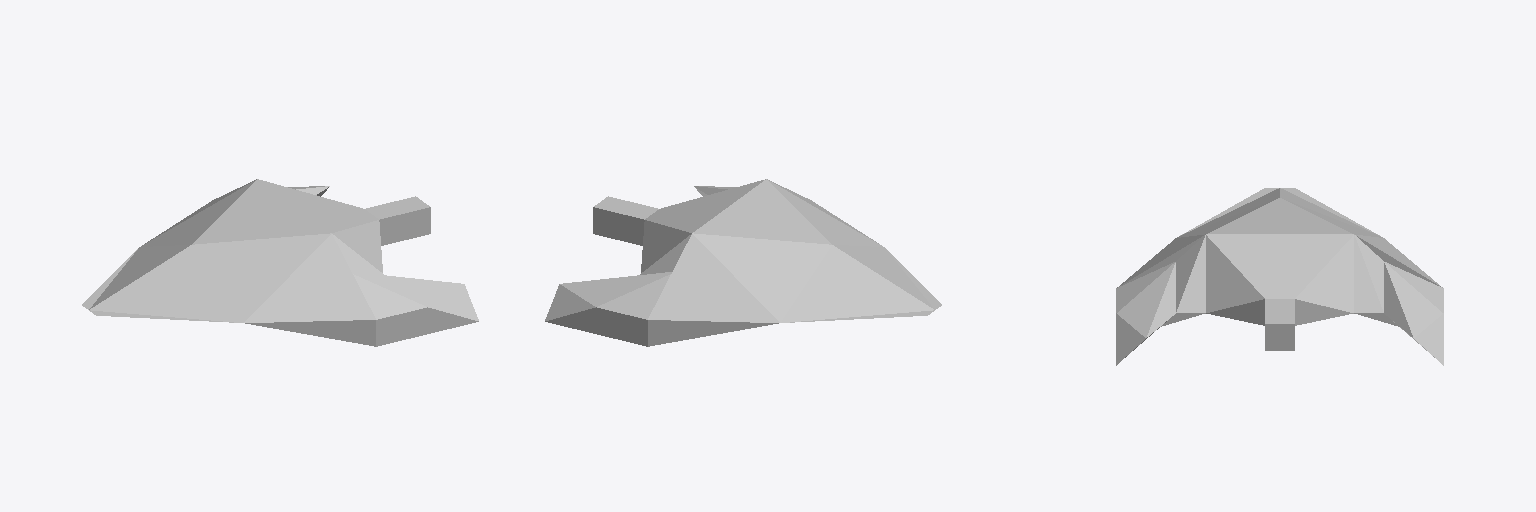
File: enemy_spy.obj
The picture shows the model from 3 angles: view 1: azimuth 30°, elevation 25°; view 2: azimuth 150°, elevation 25°; view 3: azimuth 270°, elevation 25°; orthographic projection.
Parts seen in each view (by area): view 1: Cube; view 2: Cube; view 3: Cube.
Part boxes in pixels (x1,y1,x2,y2): Cube: (82,179,478,346); Cube: (545,179,941,346); Cube: (1116,188,1443,365).
Bounding box in the file's own units: 13 × 3 × 11.